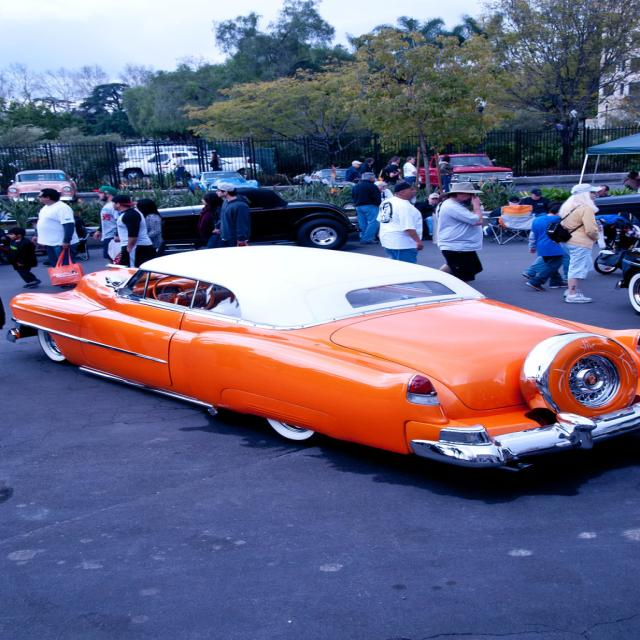car: (13, 243, 638, 472)
